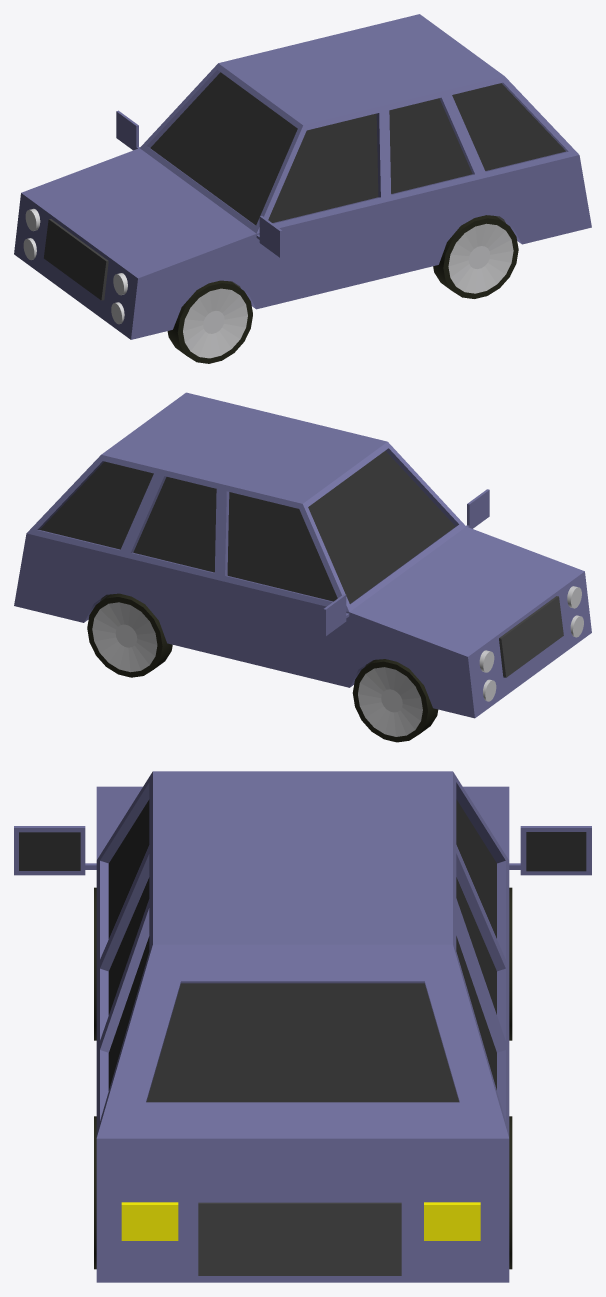
Rendered from car1.FBX.
3 renders of one model, top to bottom at view 1: azimuth 30°, elevation 25°; view 2: azimuth 150°, elevation 25°; view 3: azimuth 270°, elevation 25°, orthographic. The views are drawn at different scales.
Visible parts, largest first — view 1: car1; view 2: car1; view 3: car1.
Part boxes in pixels (x1,y1,x2,y2): car1: (14,14,591,363); car1: (14,392,591,742); car1: (14,771,591,1282).
Size of the model in its own units: 10.05 by 4.13 by 6.16.
